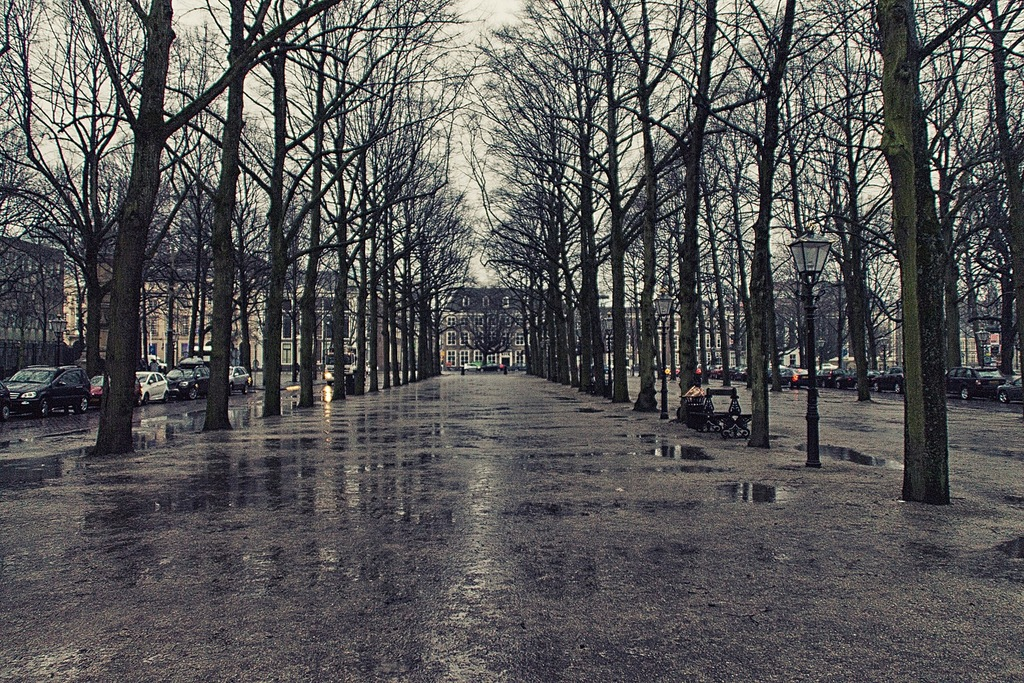Car: (709, 364, 906, 395), (4, 365, 91, 416), (946, 366, 1004, 402), (165, 368, 210, 402), (90, 376, 141, 405), (135, 370, 169, 402), (993, 379, 1023, 399), (228, 369, 251, 395)
